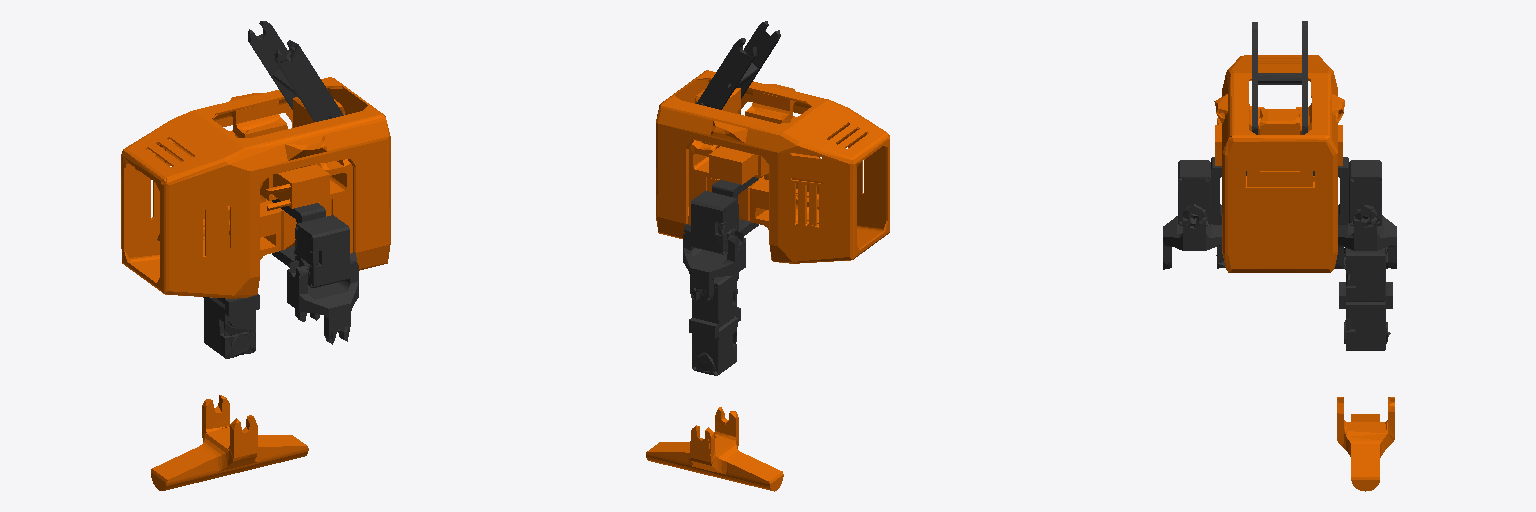
robot.urdf — XM_BDX:
<?xml version="1.0" encoding="utf-8"?>
<!-- This URDF was automatically created by SolidWorks to URDF Exporter! Originally created by [author] ([email redacted])
     Commit Version: 1.6.0-1-g15f4949  Build Version: 1.6.7594.29634
     For more information, please see http://wiki.ros.org/sw_urdf_exporter -->
<robot
  name="XM_BDX">
  <link
    name="BODY">
    <inertial>
      <origin
        xyz="-0.22E-3 0.78E-3 8.59E-3"
        rpy="0 0 0" />
      <mass
        value="0.72699" />
      <inertia
        ixx="1.31183269E-03"
        ixy="3.70409700E-05"
        ixz="1.32161000E-06"
        iyy="2.29445038E-03"
        iyz="-1.00278300E-05"
        izz="1.96937299E-03" />
    </inertial>
    <visual>
      <origin
        xyz="0 0 0"
        rpy="0 0 0" />
      <geometry>
        <mesh
          filename="package://XM_BDX/meshes/BODY.STL" />
      </geometry>
      <material
        name="">
        <color
          rgba="0.9098 0.44314 0.031373 1" />
      </material>
    </visual>
    <collision>
      <origin
        xyz="0 0 0"
        rpy="0 0 0" />
      <geometry>
        <mesh
          filename="package://XM_BDX/meshes/BODY.STL" />
      </geometry>
    </collision>
  </link>
  <link
    name="NECK">
    <inertial>
      <origin
        xyz="0 1.70E-03 35.48E-03"
        rpy="0 0 0" />
      <mass
        value="0.019" />
      <inertia
        ixx="1.60230E-05"
        ixy="0.0"
        ixz="0.0"
        iyy="9.81822E-06"
        iyz="0.0"
        izz="7.80181E-06" />
    </inertial>
    <visual>
      <origin
        xyz="0 0 0"
        rpy="0 0 0" />
      <geometry>
        <mesh
          filename="package://XM_BDX/meshes/NECK.STL" />
      </geometry>
      <material
        name="">
        <color
          rgba="0.25098 0.25098 0.25098 1" />
      </material>
    </visual>
    <collision>
      <origin
        xyz="0 0 0"
        rpy="0 0 0" />
      <geometry>
        <mesh
          filename="package://XM_BDX/meshes/NECK.STL" />
      </geometry>
    </collision>
  </link>
  <joint
    name="neck_pitch"
    type="fixed">
    <origin
      xyz="0.039 -0.0017032 0.06245"
      rpy="0 -0.52482 0" />
    <parent
      link="BODY" />
    <child
      link="NECK" />
    <axis
      xyz="0 0 0" />
  </joint>
  <link
    name="HEAD">
    <inertial>
      <origin
        xyz="-0.33E-3 2.75E-03 20.66E-03"
        rpy="0 0 0" />
      <mass
        value="0.17460" />
      <inertia
        ixx="3.2166268E-04"
        ixy="1.2352400E-06"
        ixz="-1.7300220E-05"
        iyy="4.2251228E-04"
        iyz="-3.5853500E-06"
        izz="6.7423500E-04" />
    </inertial>
    <visual>
      <origin
        xyz="0 0 0"
        rpy="0 0 0" />
      <geometry>
        <mesh
          filename="package://XM_BDX/meshes/HEAD.STL" />
      </geometry>
      <material
        name="">
        <color
          rgba="0.9098 0.44314 0.031373 1" />
      </material>
    </visual>
    <collision>
      <origin
        xyz="0 0 0"
        rpy="0 0 0" />
      <geometry>
        <mesh
          filename="package://XM_BDX/meshes/HEAD.STL" />
      </geometry>
    </collision>
  </link>
  <joint
    name="head_pitch"
    type="fixed">
    <origin
      xyz="0 0 0.082"
      rpy="0 0.52804 0" />
    <parent
      link="NECK" />
    <child
      link="HEAD" />
    <axis
      xyz="0 0 0" />
  </joint>
  <link
    name="HIP_LEFT">
    <inertial>
      <origin
        xyz="1.85E-03 52.84E-03 27.86E-03"
        rpy="0 0 0" />
      <mass
        value="0.101" />
      <inertia
        ixx="4.153369E-05"
        ixy="-2.214420E-06"
        ixz="3.279540E-06"
        iyy="4.405694E-05"
        iyz="-1.604100E-07"
        izz="2.979343E-05" />
    </inertial>
    <visual>
      <origin
        xyz="0 0 0"
        rpy="0 0 0" />
      <geometry>
        <mesh
          filename="package://XM_BDX/meshes/HIP_LEFT.STL" />
      </geometry>
      <material
        name="">
        <color
          rgba="0.25098 0.25098 0.25098 1" />
      </material>
    </visual>
    <collision>
      <origin
        xyz="0 0 0"
        rpy="0 0 0" />
      <geometry>
        <mesh
          filename="package://XM_BDX/meshes/HIP_LEFT.STL" />
      </geometry>
    </collision>
  </link>
  <joint
    name="left_hip_yaw"
    type="revolute">
    <origin
      xyz="0 0.01425 -0.0436"
      rpy="0 0 0" />
    <parent
      link="BODY" />
    <child
      link="HIP_LEFT" />
    <axis
      xyz="0 0 1" />
    <limit
      lower="-0.37899"
      upper="0.37899"
      effort="41"
      velocity="4.8171" />
    <dynamics
      damping="1.084"
      friction="0.03" />
    <safety_controller
      k_position="21.1"
      k_velocity="0" />
  </joint>
  <link
    name="HIP_R_LEFT">
    <inertial>
      <origin
        xyz="0 0 -25.15E-03"
        rpy="0 0 0" />
      <mass
        value="0.018" />
      <inertia
        ixx="6.25751E-06"
        ixy="-2.00000E-11"
        ixz="0.0"
        iyy="5.92983E-06"
        iyz="0.0"
        izz="7.87081E-06" />
    </inertial>
    <visual>
      <origin
        xyz="0 0 0"
        rpy="0 0 0" />
      <geometry>
        <mesh
          filename="package://XM_BDX/meshes/HIP_R_LEFT.STL" />
      </geometry>
      <material
        name="">
        <color
          rgba="0.25098 0.25098 0.25098 1" />
      </material>
    </visual>
    <collision>
      <origin
        xyz="0 0 0"
        rpy="0 0 0" />
      <geometry>
        <mesh
          filename="package://XM_BDX/meshes/HIP_R_LEFT.STL" />
      </geometry>
    </collision>
  </link>
  <joint
    name="left_hip_roll"
    type="revolute">
    <origin
      xyz="0 0.05925 0.01275"
      rpy="0 0 0" />
    <parent
      link="HIP_LEFT" />
    <child
      link="HIP_R_LEFT" />
    <axis
      xyz="-1 0 0" />
    <limit
      lower="-1.8827"
      upper="0.38819"
      effort="41"
      velocity="4.8171" />
    <dynamics
      damping="1.084"
      friction="0.03" />
    <safety_controller
      k_position="21.1"
      k_velocity="0" />
  </joint>
  <link
    name="THIGH_LEFT">
    <inertial>
      <origin
        xyz="0 2.15E-03 -35.25E-03"
        rpy="0 0 0" />
      <mass
        value="0.174" />
      <inertia
        ixx="1.1144779E-04"
        ixy="0.0"
        ixz="-5.9978000e-07"
        iyy="9.3367670E-05"
        iyz="0.0"
        izz="5.1193580E-05" />
    </inertial>
    <visual>
      <origin
        xyz="0 0 0"
        rpy="0 0 0" />
      <geometry>
        <mesh
          filename="package://XM_BDX/meshes/THIGH_LEFT.STL" />
      </geometry>
      <material
        name="">
        <color
          rgba="0.25098 0.25098 0.25098 1" />
      </material>
    </visual>
    <collision>
      <origin
        xyz="0 0 0"
        rpy="0 0 0" />
      <geometry>
        <mesh
          filename="package://XM_BDX/meshes/THIGH_LEFT.STL" />
      </geometry>
    </collision>
  </link>
  <joint
    name="left_hip_pitch"
    type="revolute">
    <origin
      xyz="0 0 -0.05"
      rpy="0 0 0" />
    <parent
      link="HIP_R_LEFT" />
    <child
      link="THIGH_LEFT" />
    <axis
      xyz="0 1 0" />
    <limit
      lower="-1.7492"
      upper="1.7492"
      effort="41"
      velocity="4.8171" />
    <dynamics
      damping="1.084"
      friction="0.03" />
    <safety_controller
      k_position="21.1"
      k_velocity="0" />
  </joint>
  <link
    name="CALF_LEFT">
    <inertial>
      <origin
        xyz="0.34E-03 1.91E-03 -50.36E-03"
        rpy="0 0 0" />
      <mass
        value="0.098" />
      <inertia
        ixx="4.467074E-05"
        ixy="-2.144200E-06"
        ixz="1.998000E-07"
        iyy="3.067445E-05"
        iyz="3.182100E-06"
        izz="3.166172E-05" />
    </inertial>
    <visual>
      <origin
        xyz="0 0 0"
        rpy="0 0 0" />
      <geometry>
        <mesh
          filename="package://XM_BDX/meshes/CALF_LEFT.STL" />
      </geometry>
      <material
        name="">
        <color
          rgba="0.25098 0.25098 0.25098 1" />
      </material>
    </visual>
    <collision>
      <origin
        xyz="0 0 0"
        rpy="0 0 0" />
      <geometry>
        <mesh
          filename="package://XM_BDX/meshes/CALF_LEFT.STL" />
      </geometry>
    </collision>
  </link>
  <joint
    name="left_knee"
    type="revolute">
    <origin
      xyz="0 0 -0.0705"
      rpy="0 0 0" />
    <parent
      link="THIGH_LEFT" />
    <child
      link="CALF_LEFT" />
    <axis
      xyz="0 -1 0" />
    <limit
      lower="0"
      upper="2.3829"
      effort="41"
      velocity="4.8171" />
    <dynamics
      damping="1.084"
      friction="0.03" />
    <safety_controller
      k_position="21.1"
      k_velocity="0" />
  </joint>
  <link
    name="FOOT_LEFT">
    <inertial>
      <origin
        xyz="0 0 -33.34E-03"
        rpy="0 0 0" />
      <mass
        value="0.032" />
      <inertia
        ixx="6.903700E-06"
        ixy="0.0"
        ixz="0.0"
        iyy="3.164244e-05"
        iyz="0.0"
        izz="3.174429e-05" />
    </inertial>
    <visual>
      <origin
        xyz="0 0 0"
        rpy="0 0 0" />
      <geometry>
        <mesh
          filename="package://XM_BDX/meshes/FOOT_LEFT.STL" />
      </geometry>
      <material
        name="">
        <color
          rgba="0.9098 0.44314 0.031373 1" />
      </material>
    </visual>
    <collision>
      <origin
        xyz="0 0 0"
        rpy="0 0 0" />
      <geometry>
        <mesh
          filename="package://XM_BDX/meshes/FOOT_LEFT.STL" />
      </geometry>
    </collision>
  </link>
  <joint
    name="left_ankle"
    type="revolute">
    <origin
      xyz="0 0 -0.07064"
      rpy="0 0 0" />
    <parent
      link="CALF_LEFT" />
    <child
      link="FOOT_LEFT" />
    <axis
      xyz="0 1 0" />
    <limit
      lower="-1.8873"
      upper="1.8873"
      effort="41"
      velocity="4.8171" />
    <dynamics
      damping="1.084"
      friction="0.03" />
    <safety_controller
      k_position="21.1"
      k_velocity="0" />
  </joint>
  <link
    name="HIP_RIGHT">
    <inertial>
      <origin
        xyz="1.85E-03 -53.5E-03 27.86E-03"
        rpy="0 0 0" />
      <mass
        value="0.101" />
      <inertia
        ixx="4.234531E-05"
        ixy="-1.005060E-06"
        ixz="2.214420E-06"
        iyy="2.979343E-05"
        iyz="9.053100E-07"
        izz="4.486856E-05" />
    </inertial>
    <visual>
      <origin
        xyz="0 0 0"
        rpy="0 0 0" />
      <geometry>
        <mesh
          filename="package://XM_BDX/meshes/HIP_RIGHT.STL" />
      </geometry>
      <material
        name="">
        <color
          rgba="0.25098 0.25098 0.25098 1" />
      </material>
    </visual>
    <collision>
      <origin
        xyz="0 0 0"
        rpy="0 0 0" />
      <geometry>
        <mesh
          filename="package://XM_BDX/meshes/HIP_RIGHT.STL" />
      </geometry>
    </collision>
  </link>
  <joint
    name="right_hip_yaw"
    type="revolute">
    <origin
      xyz="0 -0.01425 -0.0436"
      rpy="0 0 0" />
    <parent
      link="BODY" />
    <child
      link="HIP_RIGHT" />
    <axis
      xyz="0 0 1" />
    <limit
      lower="-0.37899"
      upper="0.37899"
      effort="41"
      velocity="4.8171" />
    <dynamics
      damping="1.084"
      friction="0.03" />
    <safety_controller
      k_position="21.1"
      k_velocity="0" />
  </joint>
  <link
    name="HIP_R_RIGHT">
    <inertial>
      <origin
        xyz="0 0 -25.15E-03"
        rpy="0 0 0" />
      <mass
        value="0.018" />
      <inertia
        ixx="5.92983E-06"
        ixy="-2.00000E-11"
        ixz="0.0"
        iyy="6.25751E-06"
        iyz="0.0"
        izz="7.87081E-06" />
    </inertial>
    <visual>
      <origin
        xyz="0 0 0"
        rpy="0 0 0" />
      <geometry>
        <mesh
          filename="package://XM_BDX/meshes/HIP_R_RIGHT.STL" />
      </geometry>
      <material
        name="">
        <color
          rgba="0.25098 0.25098 0.25098 1" />
      </material>
    </visual>
    <collision>
      <origin
        xyz="0 0 0"
        rpy="0 0 0" />
      <geometry>
        <mesh
          filename="package://XM_BDX/meshes/HIP_R_RIGHT.STL" />
      </geometry>
    </collision>
  </link>
  <joint
    name="right_hip_roll"
    type="revolute">
    <origin
      xyz="0 -0.05925 0.01275"
      rpy="0 0 0" />
    <parent
      link="HIP_RIGHT" />
    <child
      link="HIP_R_RIGHT" />
    <axis
      xyz="1 0 0" />
    <limit
      lower="-1.8827"
      upper="0.38819"
      effort="41"
      velocity="4.8171" />
    <dynamics
      damping="1.084"
      friction="0.03" />
    <safety_controller
      k_position="21.1"
      k_velocity="0" />
  </joint>
  <link
    name="THIGH_RIGHT">
    <inertial>
      <origin
        xyz="0 2.15E-03 -35.25E-03"
        rpy="0 0 0" />
      <mass
        value="0.174" />
      <inertia
        ixx="1.1144779E-04"
        ixy="0.0"
        ixz="-5.9978000E-07"
        iyy="9.3367670E-05"
        iyz="0.0"
        izz="5.1193580E-05" />
    </inertial>
    <visual>
      <origin
        xyz="0 0 0"
        rpy="0 0 0" />
      <geometry>
        <mesh
          filename="package://XM_BDX/meshes/THIGH_RIGHT.STL" />
      </geometry>
      <material
        name="">
        <color
          rgba="0.25098 0.25098 0.25098 1" />
      </material>
    </visual>
    <collision>
      <origin
        xyz="0 0 0"
        rpy="0 0 0" />
      <geometry>
        <mesh
          filename="package://XM_BDX/meshes/THIGH_RIGHT.STL" />
      </geometry>
    </collision>
  </link>
  <joint
    name="right_hip_pitch"
    type="revolute">
    <origin
      xyz="0 0 -0.05"
      rpy="0 0 0" />
    <parent
      link="HIP_R_RIGHT" />
    <child
      link="THIGH_RIGHT" />
    <axis
      xyz="0 1 0" />
    <limit
      lower="-1.7492"
      upper="1.7492"
      effort="41"
      velocity="4.8171" />
    <dynamics
      damping="1.084"
      friction="0.03" />
    <safety_controller
      k_position="21.1"
      k_velocity="0" />
  </joint>
  <link
    name="CALF_RIGHT">
    <inertial>
      <origin
        xyz="0.34E-03 1.91E-03 -50.36E-03"
        rpy="0 0 0" />
      <mass
        value="0.098" />
      <inertia
        ixx="4.467074E-05"
        ixy="-2.144200E-06"
        ixz="1.998000E-07"
        iyy="3.067445E-05"
        iyz="3.182100E-06"
        izz="3.166172E-05" />
    </inertial>
    <visual>
      <origin
        xyz="0 0 0"
        rpy="0 0 0" />
      <geometry>
        <mesh
          filename="package://XM_BDX/meshes/CALF_RIGHT.STL" />
      </geometry>
      <material
        name="">
        <color
          rgba="0.25098 0.25098 0.25098 1" />
      </material>
    </visual>
    <collision>
      <origin
        xyz="0 0 0"
        rpy="0 0 0" />
      <geometry>
        <mesh
          filename="package://XM_BDX/meshes/CALF_RIGHT.STL" />
      </geometry>
    </collision>
  </link>
  <joint
    name="right_knee"
    type="revolute">
    <origin
      xyz="0 0 -0.0705"
      rpy="0 0 0" />
    <parent
      link="THIGH_RIGHT" />
    <child
      link="CALF_RIGHT" />
    <axis
      xyz="0 -1 0" />
    <limit
      lower="0"
      upper="2.3829"
      effort="41"
      velocity="4.8171" />
    <dynamics
      damping="1.084"
      friction="0.03" />
    <safety_controller
      k_position="21.1"
      k_velocity="0" />
  </joint>
  <link
    name="FOOT_RIGHT">
    <inertial>
      <origin
        xyz="0 0 -33.34E-03"
        rpy="0 0 0" />
      <mass
        value="0.032" />
      <inertia
        ixx="6.903700E-06"
        ixy="0.0"
        ixz="0.0"
        iyy="3.164244E-05"
        iyz="0.0"
        izz="3.174429E-05" />
    </inertial>
    <visual>
      <origin
        xyz="0 0 0"
        rpy="0 0 0" />
      <geometry>
        <mesh
          filename="package://XM_BDX/meshes/FOOT_RIGHT.STL" />
      </geometry>
      <material
        name="">
        <color
          rgba="0.9098 0.44314 0.031373 1" />
      </material>
    </visual>
    <collision>
      <origin
        xyz="0 0 0"
        rpy="0 0 0" />
      <geometry>
        <mesh
          filename="package://XM_BDX/meshes/FOOT_RIGHT.STL" />
      </geometry>
    </collision>
  </link>
  <joint
    name="right_ankle"
    type="revolute">
    <origin
      xyz="0 0 -0.07064"
      rpy="0 0 0" />
    <parent
      link="CALF_RIGHT" />
    <child
      link="FOOT_RIGHT" />
    <axis
      xyz="0 1 0" />
    <limit
      lower="-1.8873"
      upper="1.8873"
      effort="41"
      velocity="4.8171" />
    <dynamics
      damping="1.084"
      friction="0.03" />
    <safety_controller
      k_position="21.1"
      k_velocity="0" />
  </joint>
</robot>

--- Facts derived from the render (not from the file) ---
3 views of the same robot in one strip: view 1: azimuth 30°, elevation 25°; view 2: azimuth 150°, elevation 25°; view 3: azimuth 270°, elevation 25° (orthographic).
Model XM_BDX with 13 links and 12 joints (10 revolute, 2 fixed), rooted at BODY, posed all joints at 0.
Links seen in each view (by area): view 1: BODY, FOOT_LEFT, HIP_RIGHT, NECK, HIP_R_RIGHT, THIGH_LEFT; view 2: BODY, FOOT_LEFT, THIGH_LEFT, HIP_LEFT, NECK, HIP_R_LEFT; view 3: BODY, THIGH_LEFT, FOOT_LEFT, HIP_LEFT, HIP_RIGHT, HIP_R_LEFT, HIP_R_RIGHT, NECK.
Link boxes in pixels (x1,y1,x2,y2): BODY: (121,77,390,298); FOOT_LEFT: (151,395,308,490); HIP_RIGHT: (272,199,349,287); NECK: (248,21,343,121); HIP_R_RIGHT: (287,252,358,344); THIGH_LEFT: (203,294,259,358); BODY: (656,70,889,263); FOOT_LEFT: (646,407,783,491); THIGH_LEFT: (689,274,740,375); HIP_LEFT: (691,177,758,254); NECK: (696,21,780,109); HIP_R_LEFT: (683,224,745,303); BODY: (1214,55,1344,272); THIGH_LEFT: (1339,247,1392,350); FOOT_LEFT: (1337,397,1394,491); HIP_LEFT: (1313,157,1381,225); HIP_RIGHT: (1178,157,1246,225); HIP_R_LEFT: (1334,208,1396,268); HIP_R_RIGHT: (1163,209,1225,269); NECK: (1252,21,1307,134).
Size in the robot's own frame: 0.2 by 0.2012 by 0.4147 metres.
8 mesh visuals loaded from 13 distinct referenced files (8 binary STL); not drawn: 5 (reference not matched to a file when rendering).
